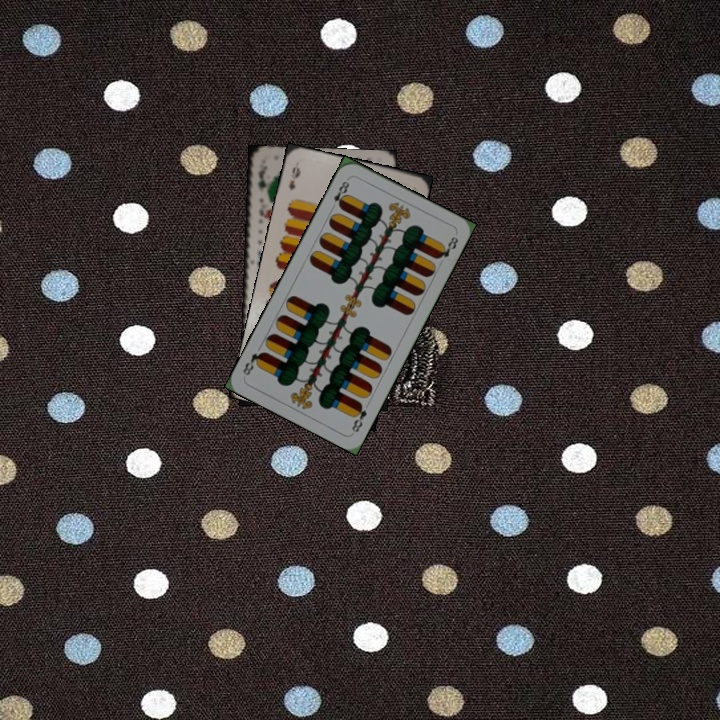E8: (327, 175, 352, 212), (347, 398, 369, 435)
E9: (285, 163, 303, 193)
GK: (254, 172, 270, 199)
